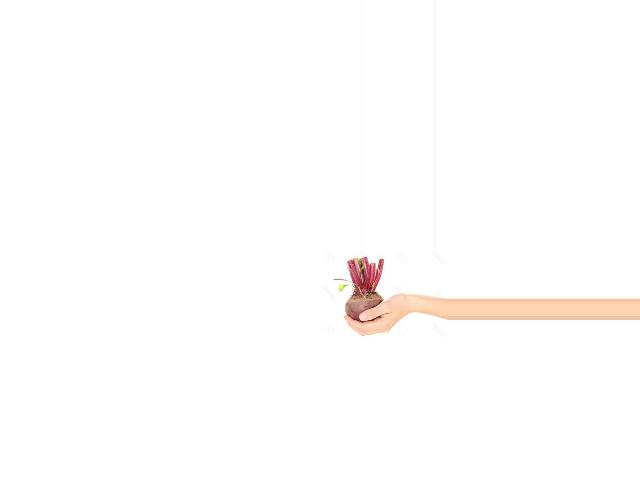beet: (332, 257, 383, 322)
